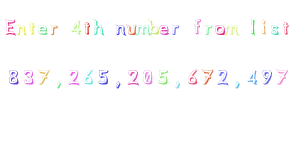,: (113, 80, 124, 90), (232, 79, 242, 90), (55, 80, 62, 90), (174, 80, 181, 89)
0: (141, 69, 154, 87)
2: (127, 68, 140, 86), (67, 69, 80, 86), (217, 68, 229, 86)
3: (22, 69, 36, 85)
4: (246, 68, 258, 86), (70, 18, 81, 35)
5: (97, 68, 110, 86), (157, 69, 169, 86)
6: (187, 68, 199, 85), (83, 69, 94, 85)
7: (201, 68, 214, 85), (276, 68, 288, 85), (39, 69, 50, 87)
8: (7, 68, 19, 86)
9: (261, 68, 272, 86)
E: (2, 15, 17, 35)
b: (148, 17, 158, 35)
e: (37, 24, 48, 36), (158, 23, 169, 35)
f: (191, 17, 201, 34)
h: (93, 17, 104, 35)
i: (260, 19, 267, 36)
l: (249, 17, 257, 35)
m: (223, 24, 240, 36), (136, 24, 151, 36)
n: (114, 24, 126, 36), (16, 24, 26, 35)
o: (215, 24, 226, 35)
r: (49, 25, 59, 37), (170, 23, 180, 35), (204, 23, 212, 35)
s: (270, 23, 280, 36)
t: (28, 19, 37, 36), (83, 21, 91, 35), (282, 20, 289, 35)
u: (126, 23, 136, 36)
